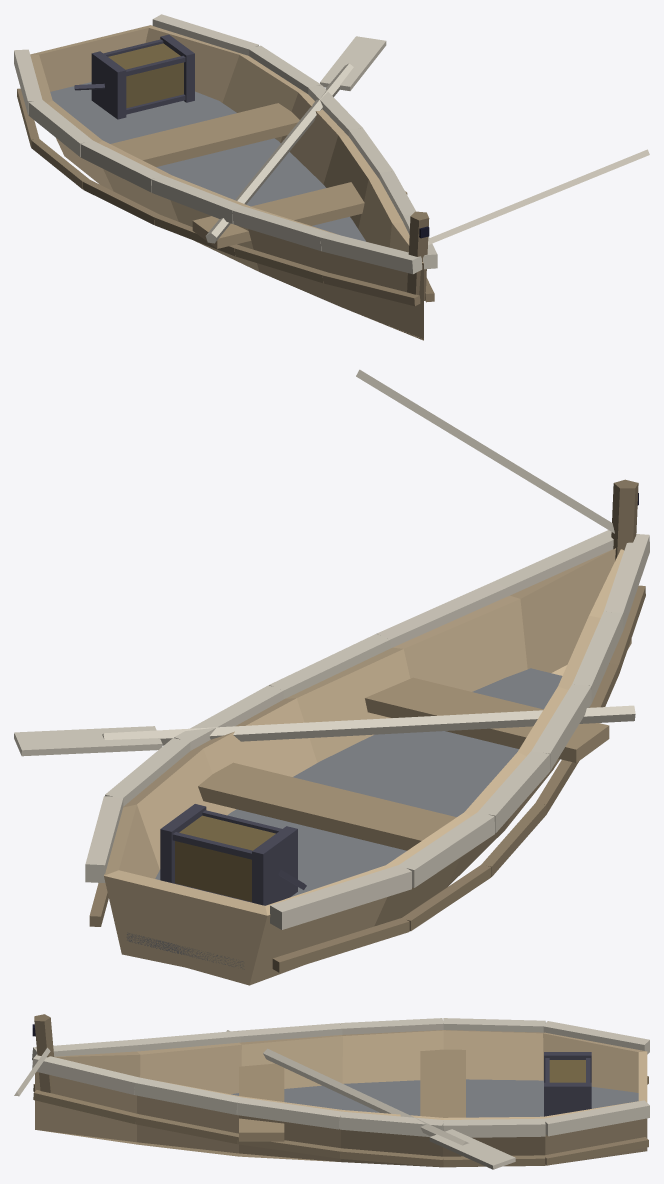
The model's file is keeper_skiff.glb.
3 views of the same model, one above another, from view 1: azimuth 30°, elevation 25°; view 2: azimuth 150°, elevation 25°; view 3: azimuth 270°, elevation 25° (orthographic). The views are drawn at different scales.
Visible parts, largest first — view 1: driftwood_l5, bone_d10, silverfog_d35, driftwood_d15, driftwood_d25, ink_l20, kindle_d50, driftwood_d30; view 2: driftwood_l5, bone_d10, silverfog_d35, driftwood_d15, driftwood_d25, ink_l20, kindle_d50, driftwood_d30; view 3: driftwood_l5, bone_d10, silverfog_d35, driftwood_d25, driftwood_d15, ink_l20, driftwood_d30, kindle_d50.
Part boxes in pixels (box(x1,y1,x2,y2)): driftwood_l5: box(30, 25, 423, 340); bone_d10: box(14, 14, 649, 274); silverfog_d35: box(50, 82, 365, 241); driftwood_d15: box(110, 103, 407, 248); driftwood_d25: box(17, 88, 434, 306); ink_l20: box(74, 34, 194, 119); kindle_d50: box(108, 43, 183, 108); driftwood_d30: box(407, 211, 429, 300); driftwood_l5: box(104, 548, 631, 985); bone_d10: box(14, 369, 649, 929); silverfog_d35: box(126, 668, 562, 969); driftwood_d15: box(198, 677, 609, 850); driftwood_d25: box(89, 585, 645, 972); ink_l20: box(160, 804, 306, 905); kindle_d50: box(175, 815, 275, 901); driftwood_d30: box(611, 479, 638, 560); driftwood_l5: box(35, 1030, 647, 1167); bone_d10: box(14, 1018, 649, 1169); silverfog_d35: box(231, 1079, 638, 1117); driftwood_d25: box(33, 1076, 648, 1167); driftwood_d15: box(239, 1049, 465, 1141); ink_l20: box(544, 1052, 591, 1116); driftwood_d30: box(34, 1014, 54, 1093); kindle_d50: box(549, 1060, 585, 1082).
Bounding box in the file's own units: 1.57 × 0.8036 × 2.8.
